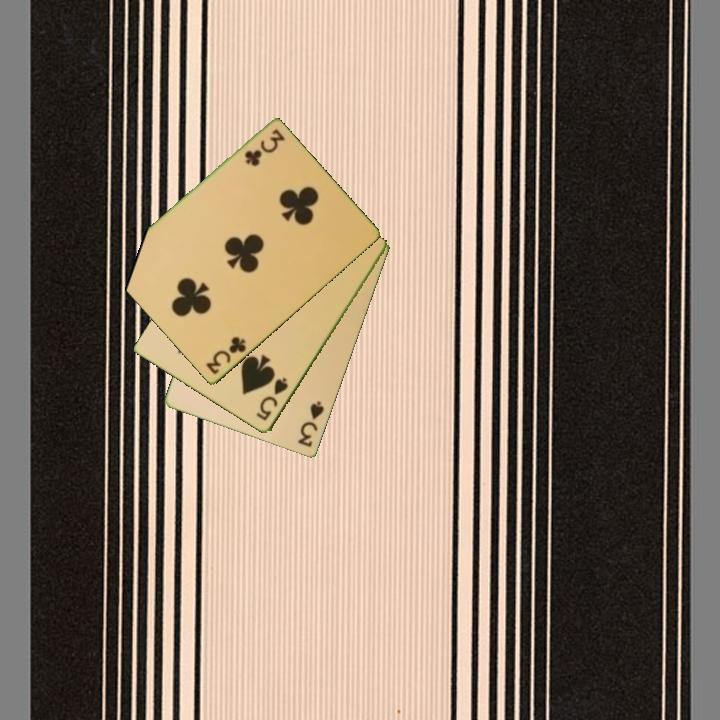3c: (202, 333, 249, 378), (241, 126, 287, 169)
3s: (295, 398, 327, 450)
5s: (252, 374, 291, 424)
